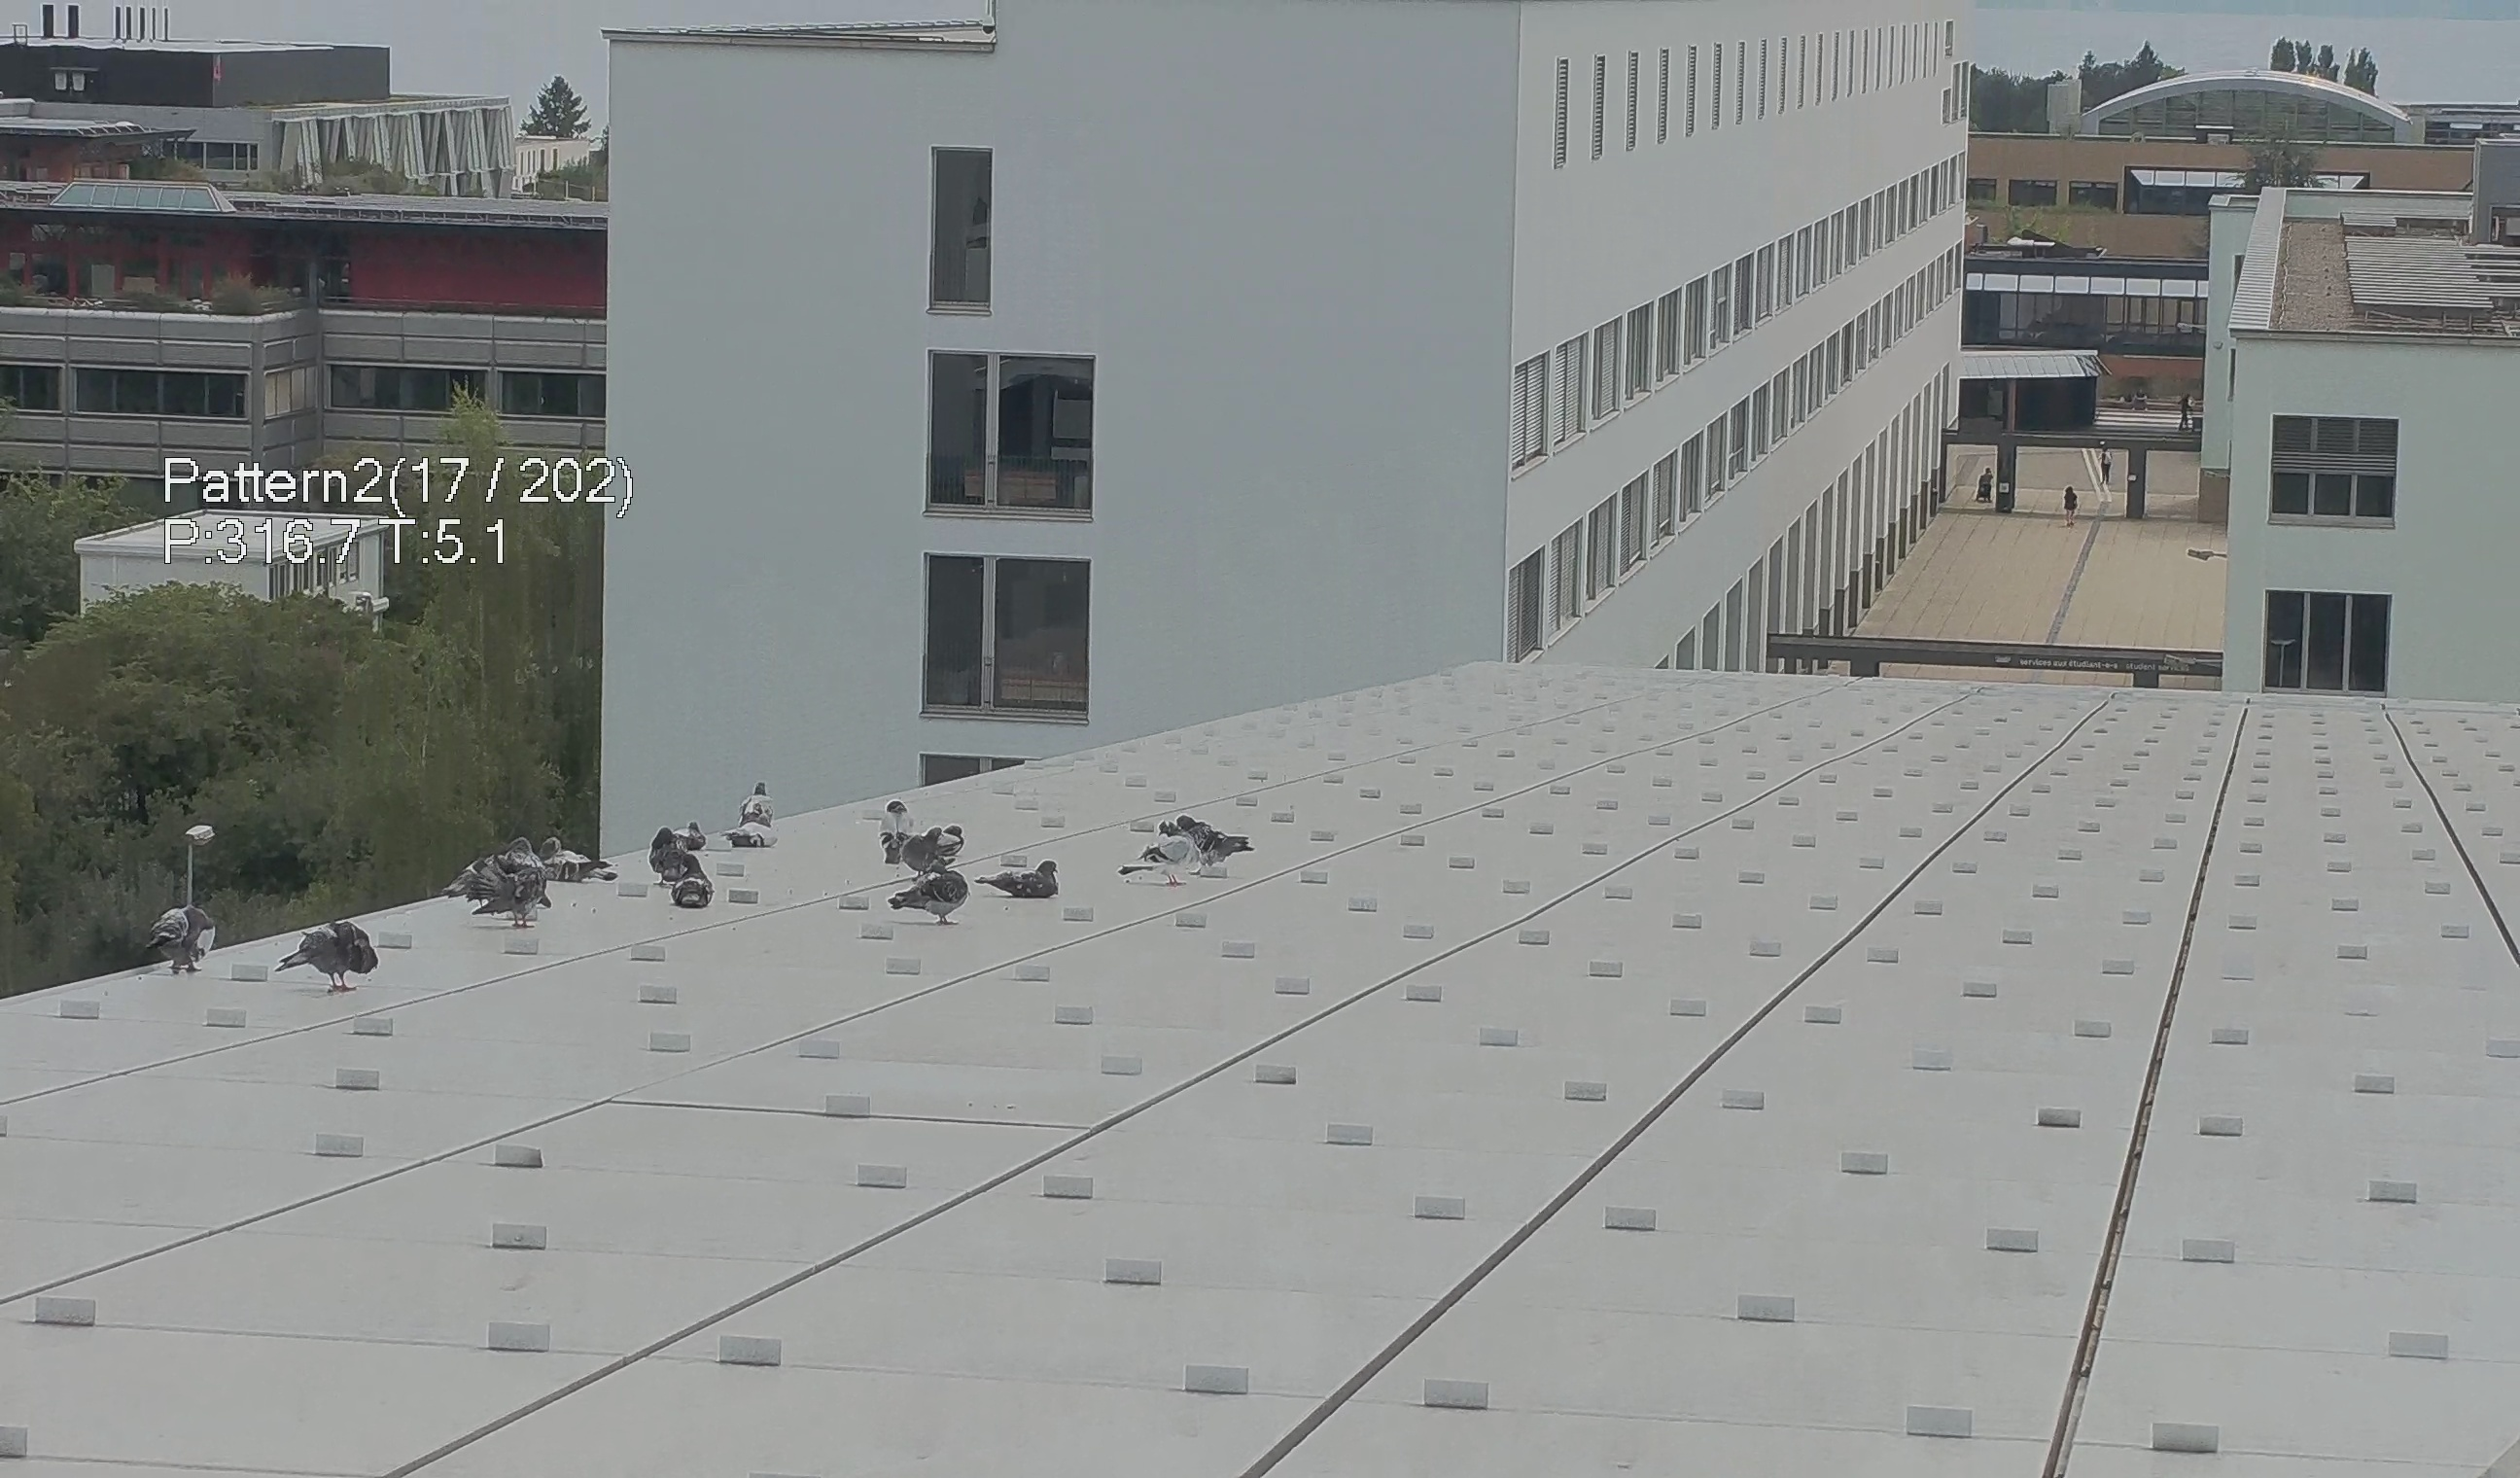Pigeon: (283, 911, 387, 992), (134, 901, 223, 985), (1113, 818, 1203, 897), (480, 838, 547, 931), (881, 862, 974, 927), (1169, 815, 1257, 876), (545, 834, 621, 892), (976, 857, 1064, 904), (895, 823, 946, 882), (666, 852, 721, 904), (725, 811, 783, 859), (647, 823, 688, 883), (879, 797, 911, 869), (737, 779, 774, 823), (939, 818, 971, 860), (675, 818, 712, 848)
